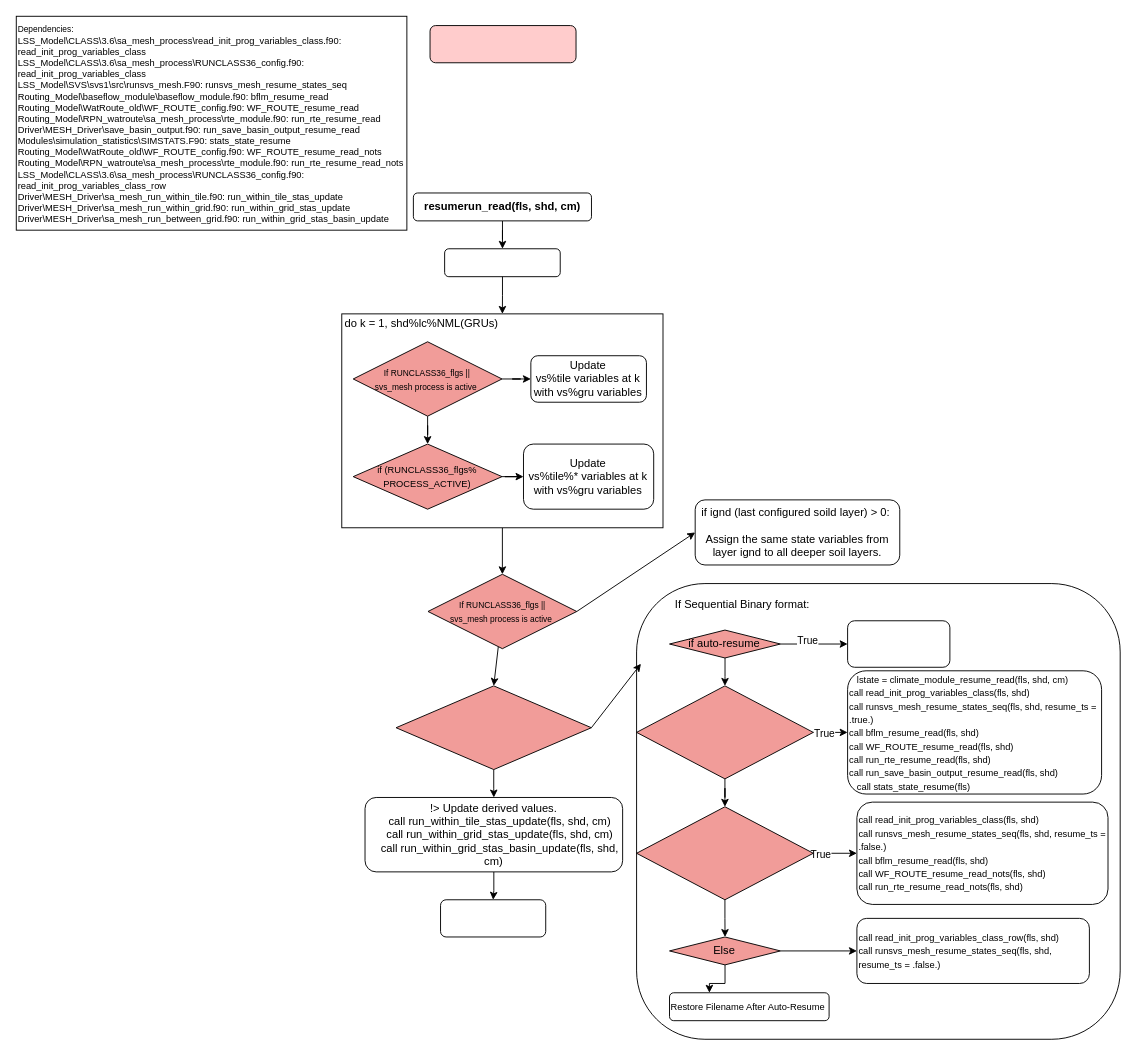
This 1136x1056 diagram has some shape labels left out. Each missing label, with the centre of its shape:
"call reset_tab" goes at (502,262).
"Else If +CLASSPROG flags not in vs%flgs%resume%bin" goes at (724,853).
"end subroutine" goes at (493,918).
"if (.not. vs%flgs%resume%state == FLAG_OFF)" goes at (493,727).
"If +STASONLY and +CLASSPROG flags not in vs%flgs%resume%bin" goes at (724,732).
"Modifiy the resume filename to include the simulation start date" goes at (898,643).
"resumerun_read.f90" goes at (502,44).
